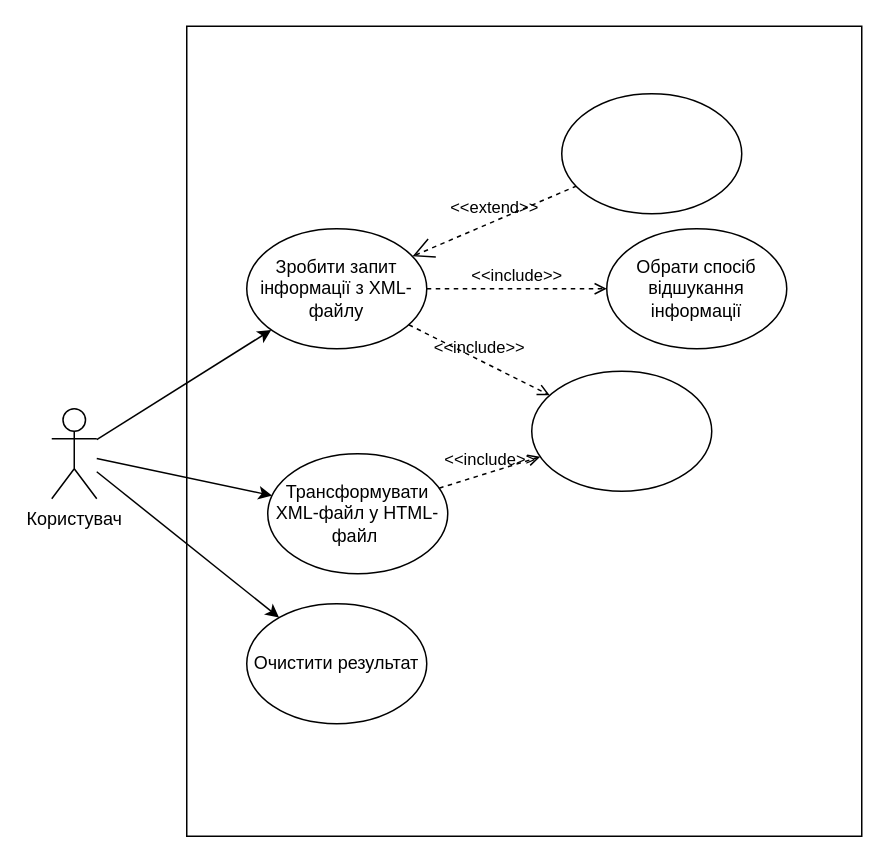
Image size: 888x863. Some labels were removed from this diagram. Here are the shapes that lost their labels. From the top down, the centre of each, then its label:
At point 651,153: "Ввести атрибути шуканої інформації".
At point 621,430: "Ввести назву файлу".
